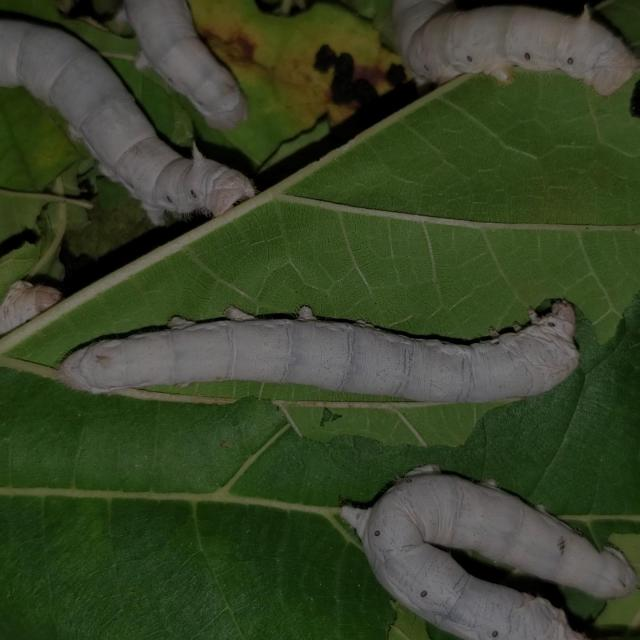Healthy: (54, 279, 584, 418), (336, 451, 636, 638)
